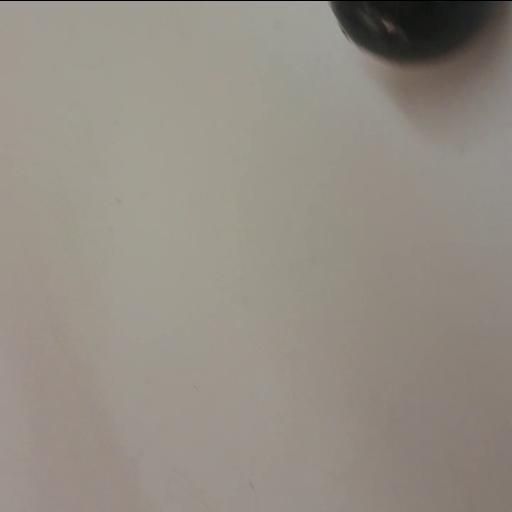dead: (324, 0, 498, 64)
